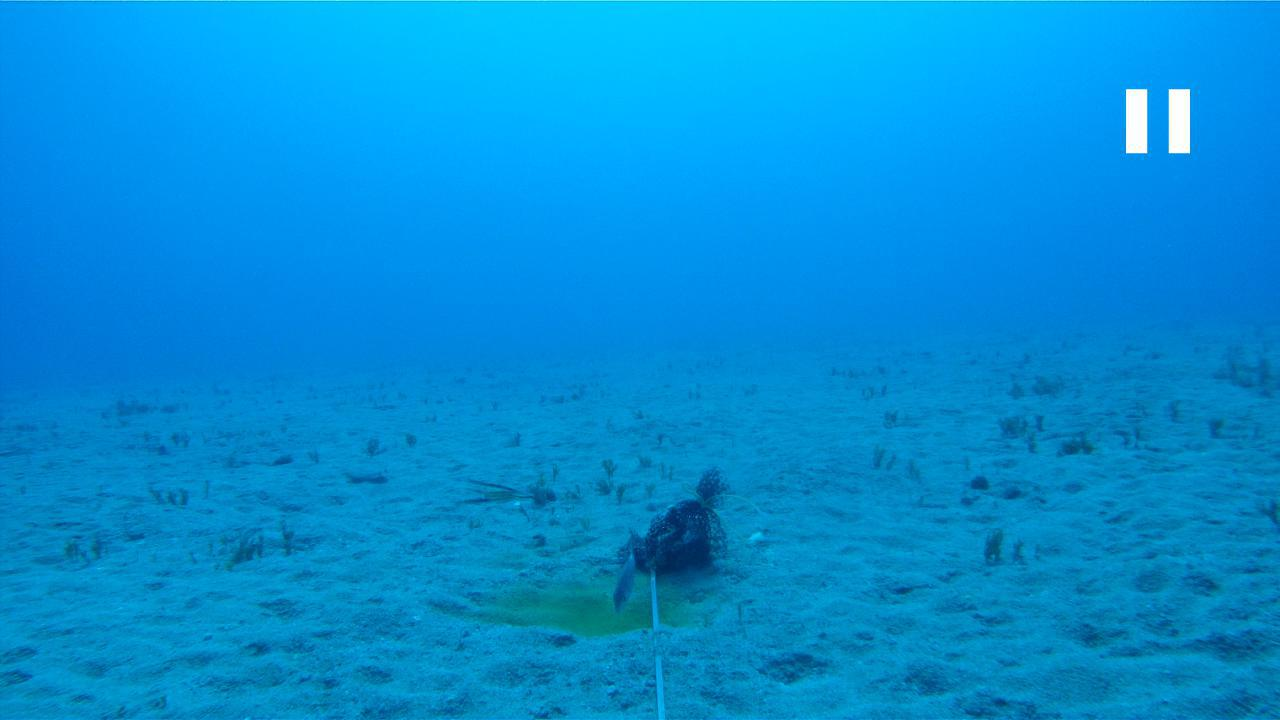bothus: (338, 465, 391, 481)
